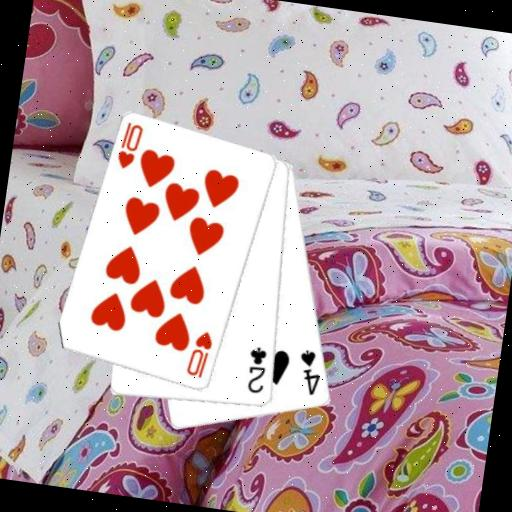10H: (183, 327, 216, 381), (113, 119, 146, 173)
2C: (242, 343, 272, 396)
4S: (292, 346, 326, 399)
